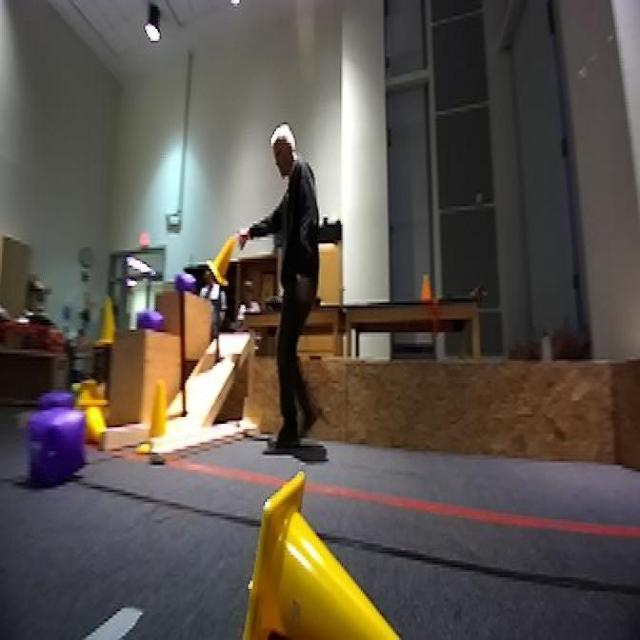frc_cone: (241, 458, 434, 636), (140, 380, 170, 454), (205, 237, 241, 286), (94, 296, 120, 351), (86, 395, 110, 441), (74, 374, 106, 404)
frc_cube: (31, 408, 86, 492), (38, 390, 74, 412), (136, 304, 168, 328), (171, 269, 197, 294)
